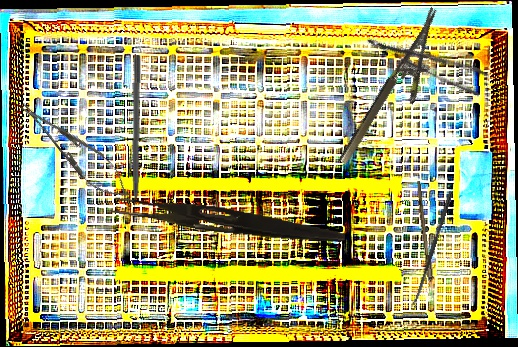Dressing Forceps: (111, 195, 347, 247), (365, 19, 490, 99)
Needle Holder: (336, 7, 462, 178), (11, 92, 139, 209)
Pusher: (128, 54, 142, 227)
Surgical Spoon: (410, 190, 454, 309), (414, 180, 439, 316)
